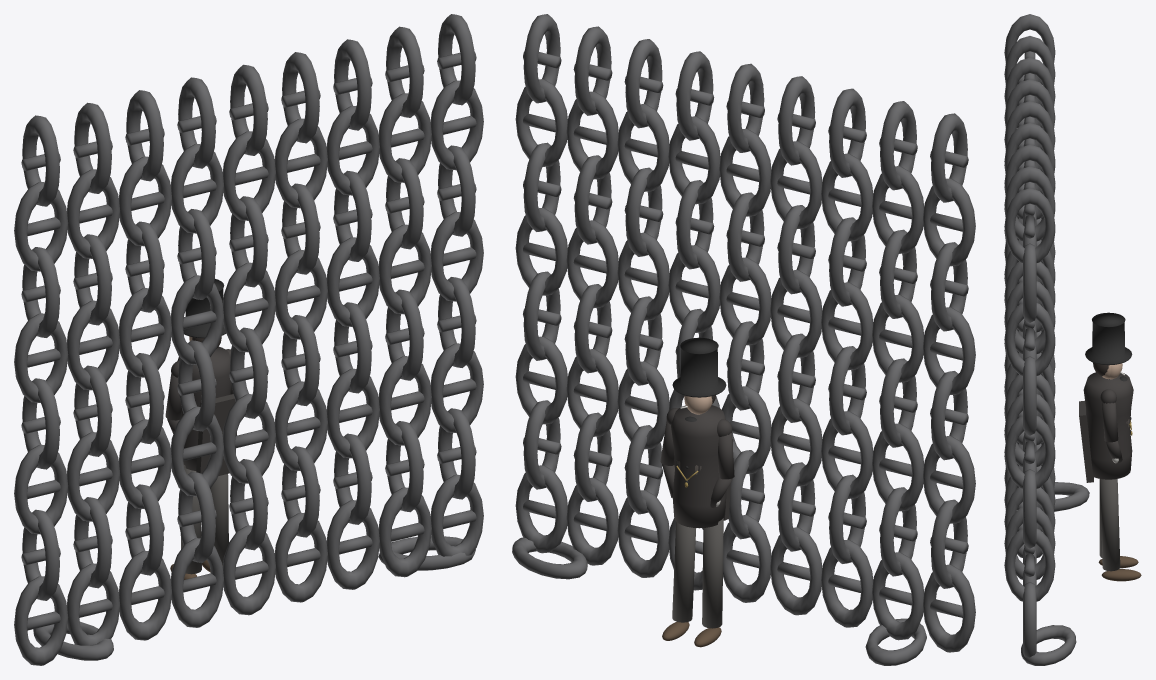
File: scan-fig06-brunel-portrait-muse.glb
3 views of the same model, side by side, from view 1: azimuth 30°, elevation 25°; view 2: azimuth 150°, elevation 25°; view 3: azimuth 270°, elevation 25° (orthographic). The views are drawn at different scales.
Visible parts, largest first — view 1: ChainLinkProto, ChainLinkProto.024, ChainLinkProto.016, ChainLinkProto.056, ChainLinkProto.032, ChainLinkProto.048, ChainLinkProto.040, ChainLinkProto.064, ChainLinkProto.004, ChainLinkProto.006, ChainLinkProto.008, ChainLinkProto.002 (+66 smaller); view 2: Coat, HatBrim, ChainLinkProto, ChainLinkProto.016, ChainLinkProto.024, ChainLinkProto.048, ChainLinkProto.008, ChainLinkProto.056, ChainLinkProto.064, ChainLinkProto.032, LegL, ChainLinkProto.004 (+64 smaller); view 3: Coat, ChainLinkProto.071, HatBrim, LegR, ChainLinkProto.067, ChainLinkProto.069, ChainLinkProto.065, ChainLinkProto.063, ChainLinkProto.073, ChainLinkProto.057, ChainLinkProto.059, ChainLinkProto.055 (+29 smaller).
Part boxes in pixels (x1,y1,x2,y2): ChainLinkProto: (14,576,68,665); ChainLinkProto.024: (170,538,223,627); ChainLinkProto.016: (118,550,171,640); ChainLinkProto.056: (378,487,431,577); ChainLinkProto.032: (222,525,275,615); ChainLinkProto.048: (326,500,379,589); ChainLinkProto.040: (274,512,327,602); ChainLinkProto.064: (430,474,483,556); ChainLinkProto.004: (14,313,68,402); ChainLinkProto.006: (14,182,68,271); ChainLinkProto.008: (67,563,119,645); ChainLinkProto.002: (14,444,68,534); Coat: (671,405,726,528); HatBrim: (672,337,726,397); ChainLinkProto: (923,564,975,652); ChainLinkProto.016: (821,540,873,627); ChainLinkProto.024: (770,527,822,615); ChainLinkProto.048: (617,490,669,577); ChainLinkProto.008: (872,552,924,640); ChainLinkProto.056: (566,477,618,565); ChainLinkProto.064: (515,465,567,553); ChainLinkProto.032: (723,515,771,602); LegL: (702,518,723,628); ChainLinkProto.004: (923,307,975,394); Coat: (1083,372,1133,479); ChainLinkProto.071: (1004,188,1055,262); HatBrim: (1085,312,1132,365); LegR: (1100,479,1120,571); ChainLinkProto.067: (1004,416,1055,488); ChainLinkProto.069: (1004,303,1055,375); ChainLinkProto.065: (1004,529,1055,601); ChainLinkProto.063: (1004,166,1055,241); ChainLinkProto.073: (1021,625,1076,665); ChainLinkProto.057: (1004,507,1055,579); ChainLinkProto.059: (1004,394,1055,466); ChainLinkProto.055: (1004,144,1055,219).
Bounding box in the file's own units: 3.24 × 3.64 × 0.9585.
